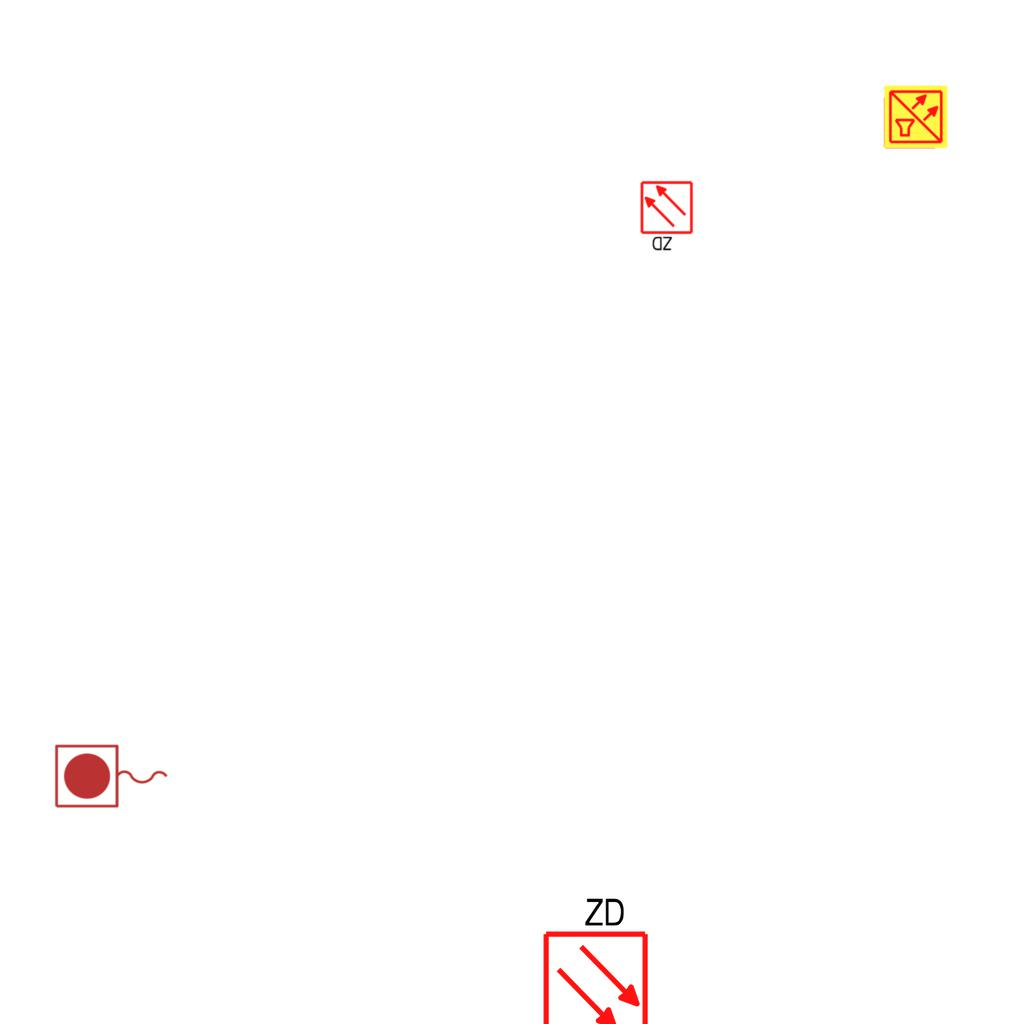OKW_Multisensormelder_(Kombination_optischer_Rauch-Kahlenmonoxid_Waerme-Melder): (883, 84, 949, 150)
ZD_Melder_in_Zwischendecke_mit_Revisionsoeffnung_mind_40_x_40_cm: (537, 891, 651, 1024), (639, 180, 696, 254)
Zugtaster: (51, 741, 173, 813)
